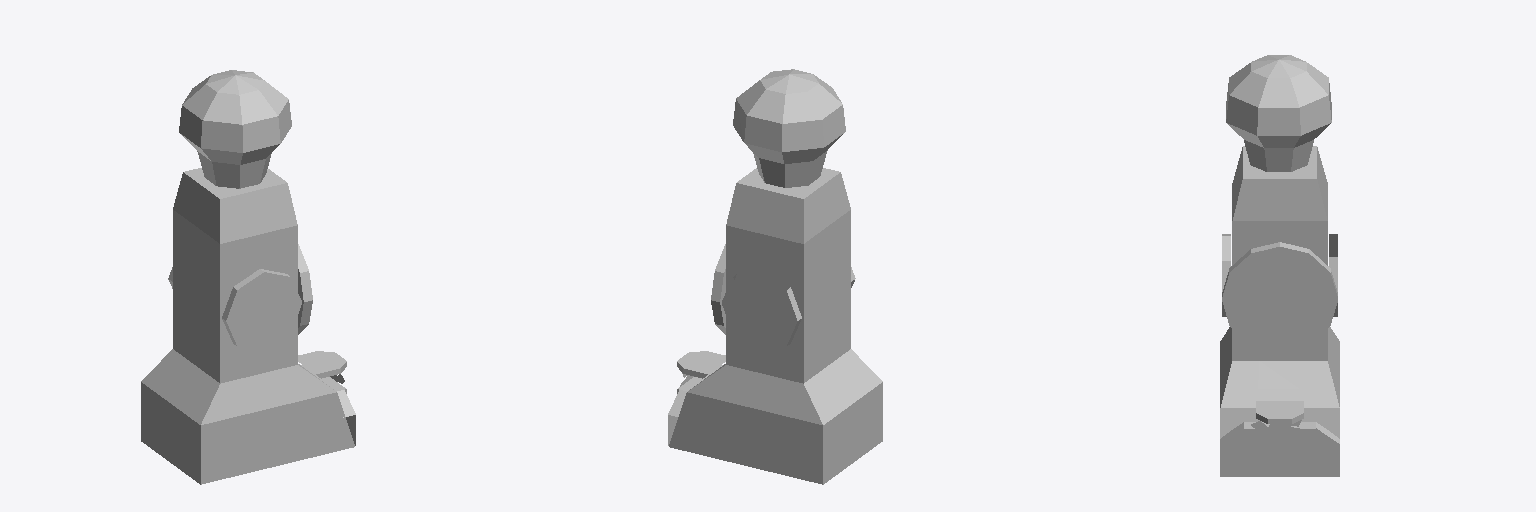
The model's file is Reloj.obj.
3 renders of one model, left to right at view 1: azimuth 30°, elevation 25°; view 2: azimuth 150°, elevation 25°; view 3: azimuth 270°, elevation 25°, orthographic.
Visible parts, largest first — view 1: ClockTownMap_material-0140C2EA; view 2: ClockTownMap_material-0140C2EA; view 3: ClockTownMap_material-0140C2EA.
Boxes of the visible parts, x1,y1,x2,y2 form: ClockTownMap_material-0140C2EA: [141, 70, 355, 484]; ClockTownMap_material-0140C2EA: [668, 69, 882, 484]; ClockTownMap_material-0140C2EA: [1220, 55, 1339, 476].
Bounding box in the file's own units: 0.1117 × 0.2334 × 0.068.